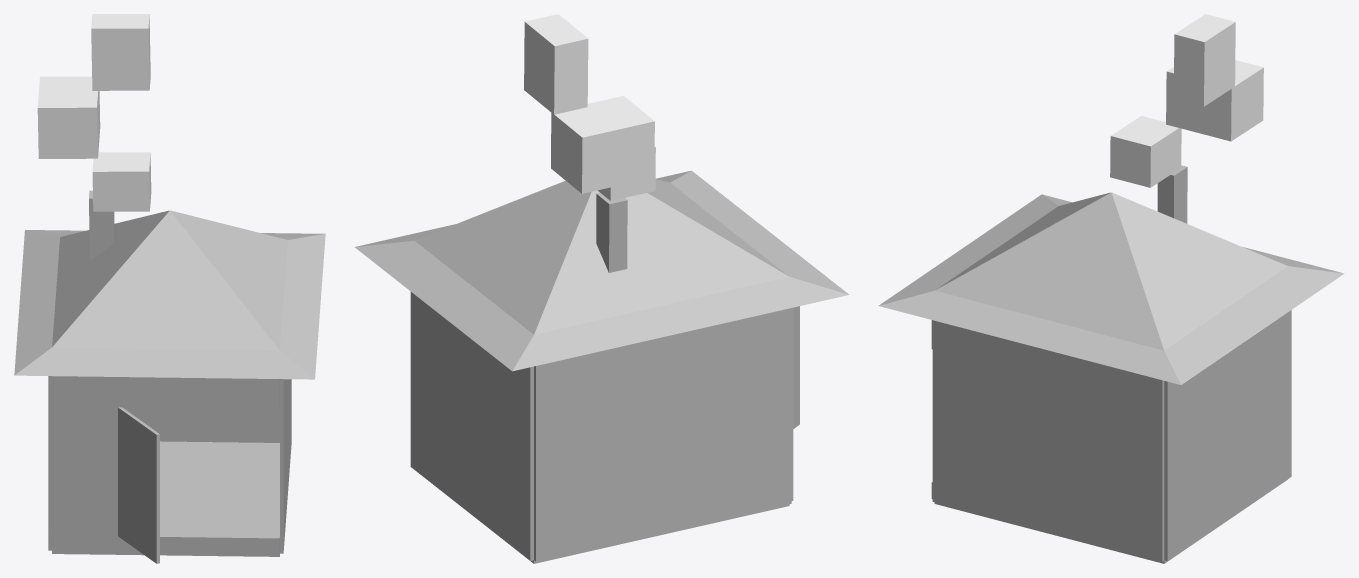
File: convexHouse.dae
3 renders of one model, left to right at view 1: azimuth 30°, elevation 25°; view 2: azimuth 150°, elevation 25°; view 3: azimuth 270°, elevation 25°, orthographic. The views are drawn at different scales.
Parts seen in each view (by area): view 1: colladaConvexHouse; view 2: colladaConvexHouse; view 3: colladaConvexHouse.
Boxes of the visible parts, <box> form: colladaConvexHouse: <box>14,14,325,563</box>; colladaConvexHouse: <box>354,14,849,563</box>; colladaConvexHouse: <box>878,14,1344,563</box>.
Bounding box in the file's own units: 17.6 × 18.17 × 19.85.
